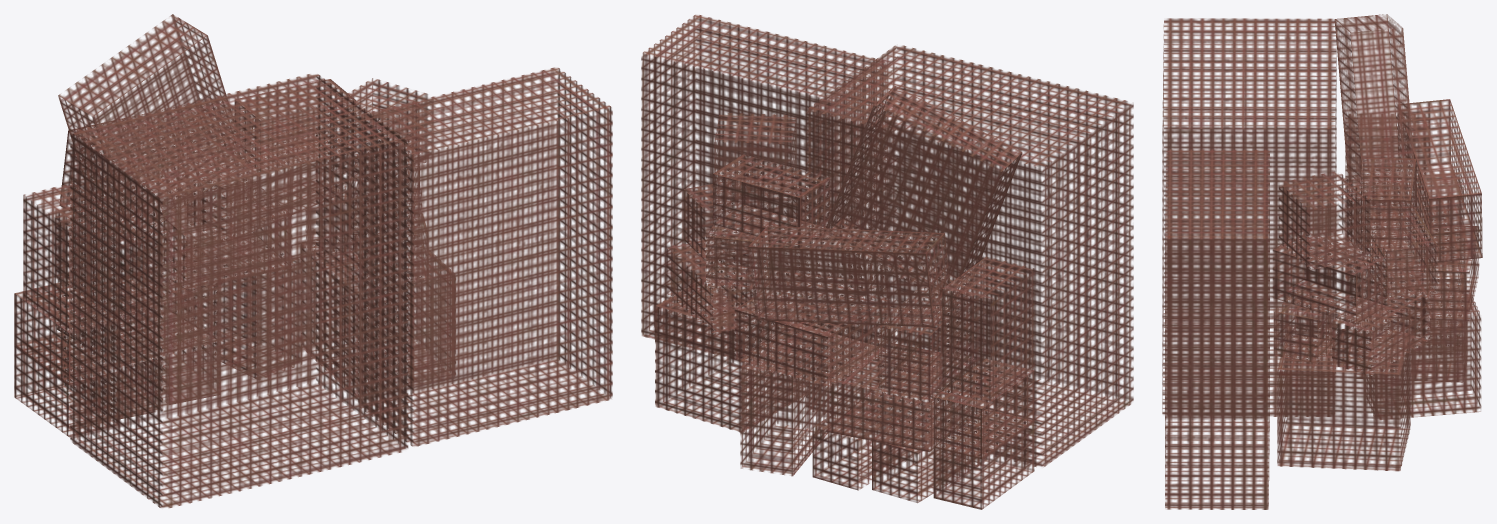
The model's file is cages_stack_largest.glb.
The picture shows the model from 3 angles, left to right: view 1: azimuth 30°, elevation 25°; view 2: azimuth 150°, elevation 25°; view 3: azimuth 270°, elevation 25°; orthographic projection. The views are drawn at different scales.
Parts seen in each view (by area): view 1: cages_stack_largest_Baked; view 2: cages_stack_largest_Baked; view 3: cages_stack_largest_Baked.
Part boxes in pixels (x1=…): cages_stack_largest_Baked: x1=14, y1=14, x2=612, y2=508; cages_stack_largest_Baked: x1=641, y1=15, x2=1133, y2=509; cages_stack_largest_Baked: x1=1162, y1=14, x2=1482, y2=509.
Bounding box in the file's own units: 9.07 × 7.06 × 6.01.
Materials: 1 (1 with a texture image).
